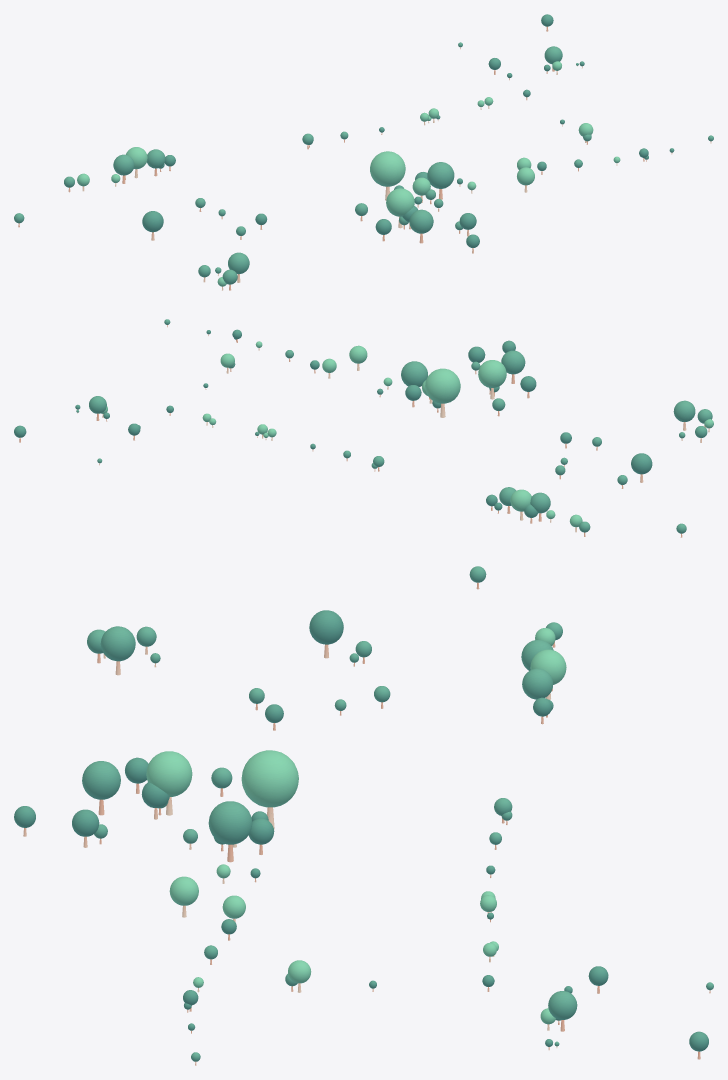
File: plant-layer.glb
The picture shows the model from 3 angles, top to bottom: view 1: azimuth 30°, elevation 25°; view 2: azimuth 150°, elevation 25°; view 3: azimuth 270°, elevation 25°; orthographic projection. The views are drawn at different scales.
Visible parts, largest first — view 1: plant-merge; view 2: plant-merge; view 3: plant-merge.
Boxes of the visible parts, <box> form: plant-merge: <box>14,14,713,290</box>; plant-merge: <box>14,319,713,537</box>; plant-merge: <box>14,566,713,1065</box>.
Bounding box in the file's own units: 314 × 23.27 × 193.
2 materials, 2 textured.
